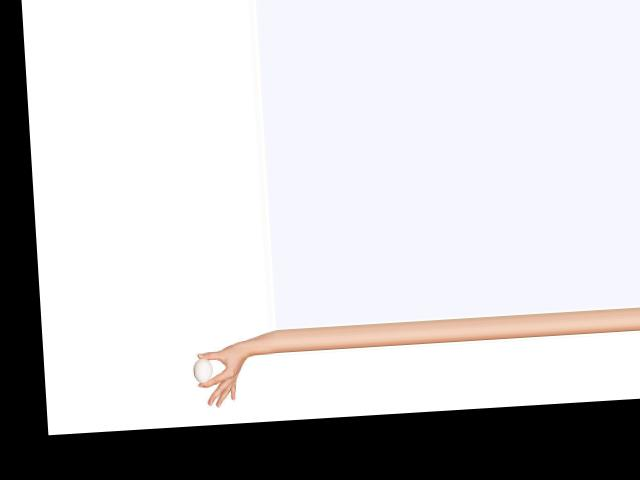egg: (192, 357, 212, 383)
